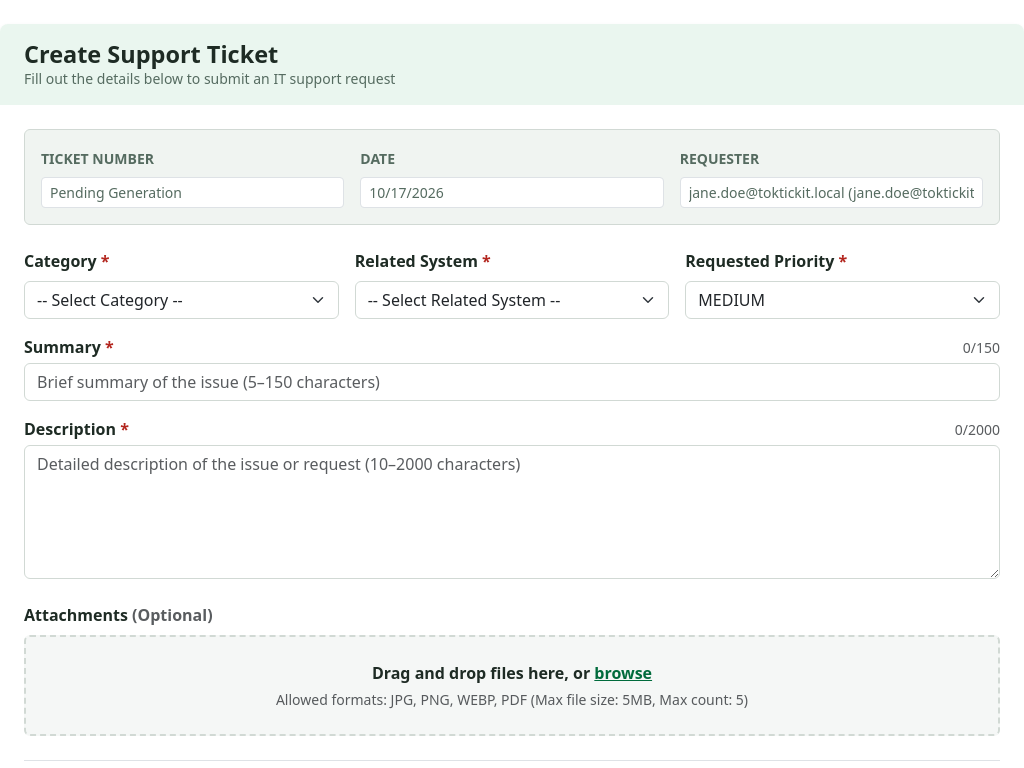
Test: CreateTicket UI Component (Lab 2 — GitHub Issue #4) › UI-05: handles API failure, shows error feedback, and retains form input data
Select "Software" in the dropdown labelled "Category *" at [181, 300], box top-left (24, 281), bottom-right (339, 319)
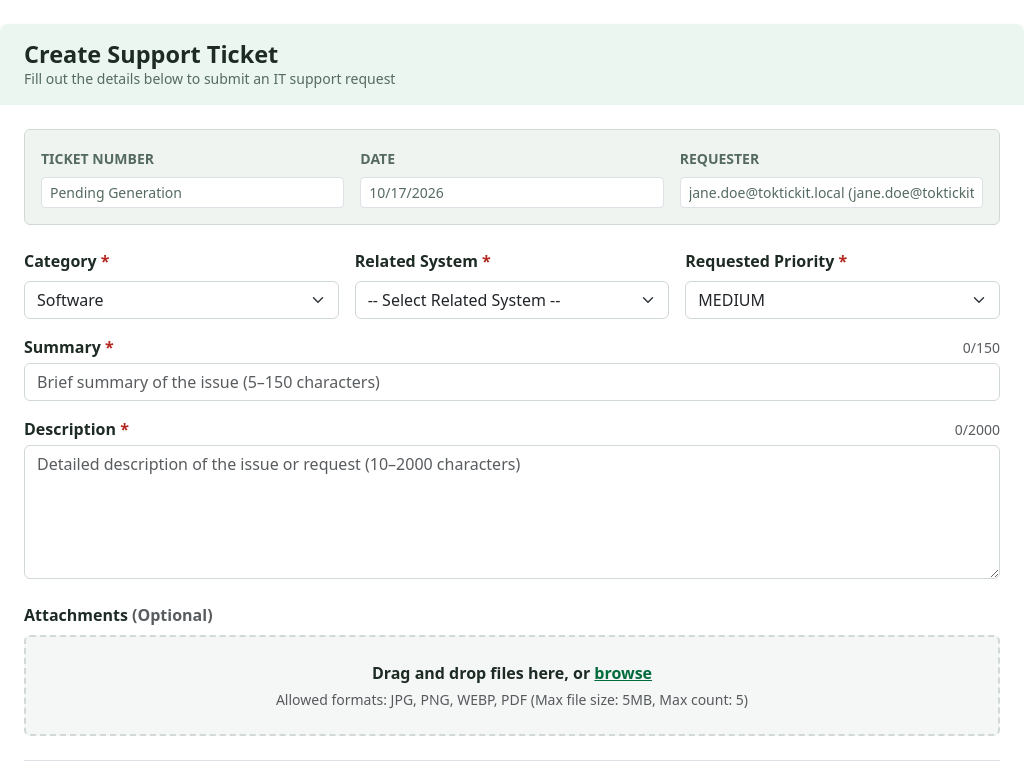
Select "VPN Service" in the dropdown labelled "Related System *" at [512, 300], box top-left (355, 281), bottom-right (669, 319)
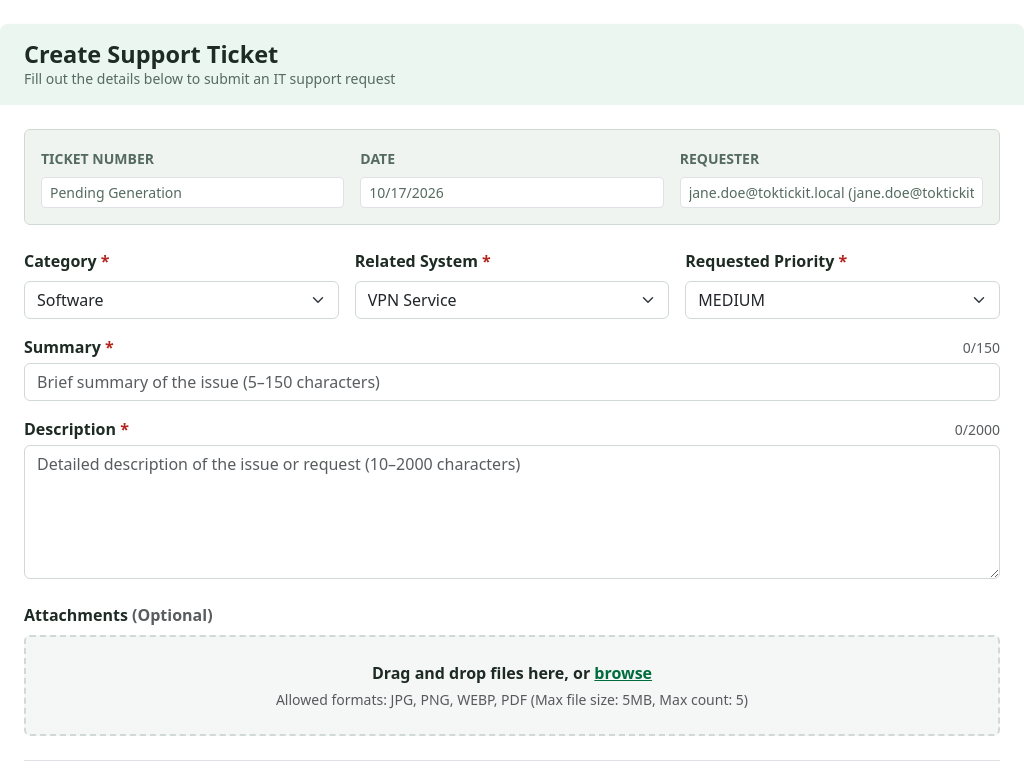
Type "Database connection error during query" into the field with placeholder "Brief summary of the issue (5–150 characters)" at [512, 382], box top-left (24, 363), bottom-right (1000, 401)
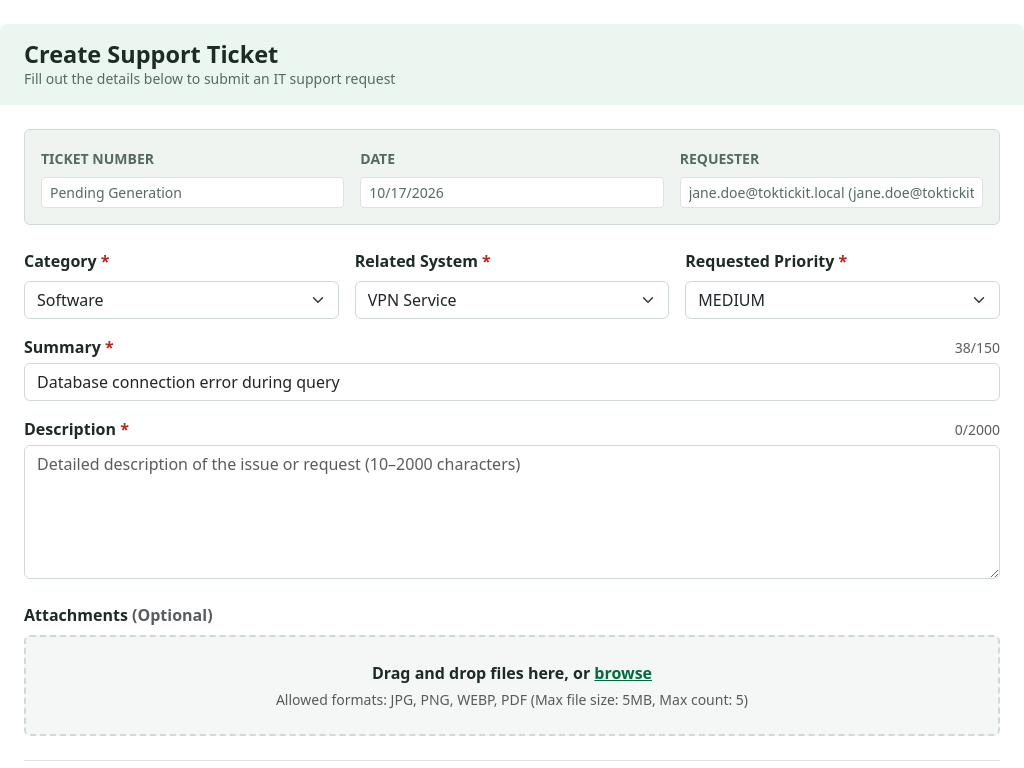
Replace the text in the text box with placeholder "Detailed description" with "Full stack error log observed when running batch update operations." at [512, 512], box top-left (24, 445), bottom-right (1000, 579)
(page scrolled)
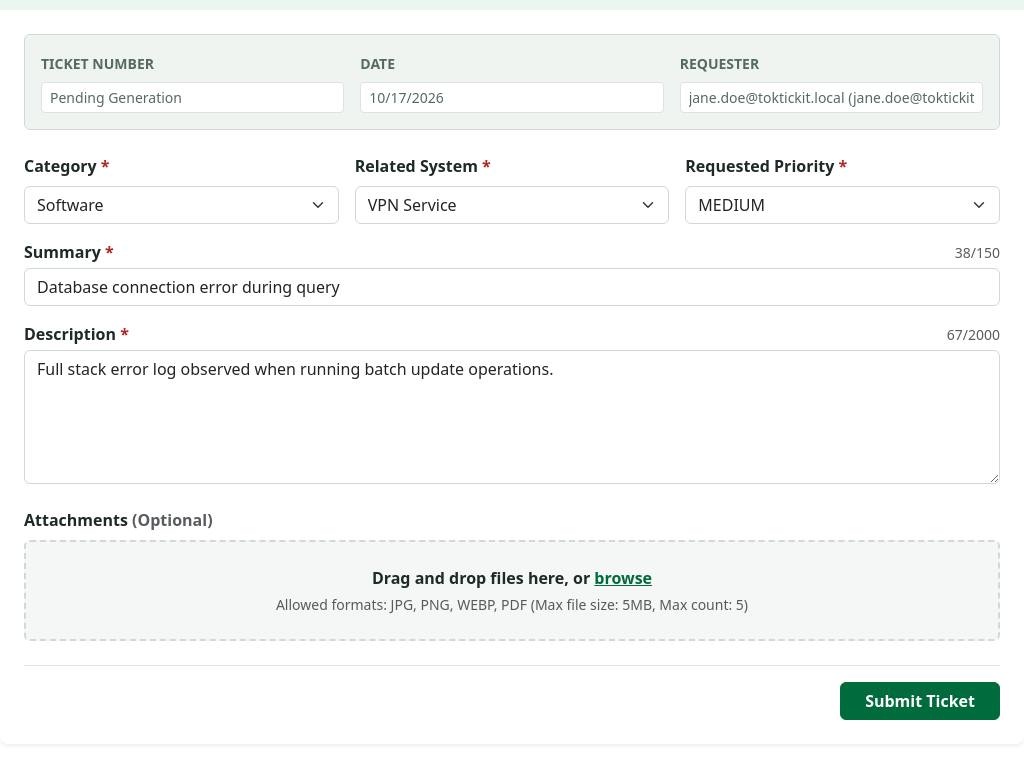
Click the button "Submit Ticket" at [920, 701], box top-left (840, 682), bottom-right (1000, 720)
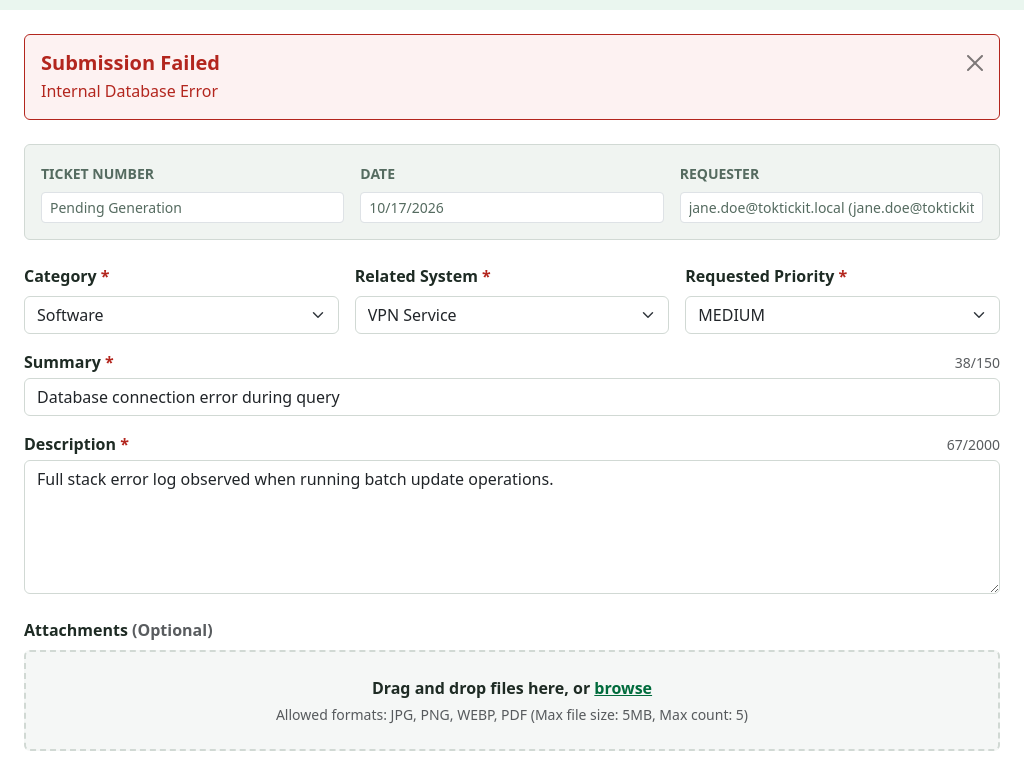
Check: the heading "Submission Failed" is shown, box top-left (41, 49), bottom-right (220, 76)
Check: the text "Internal Database Error" is shown, box top-left (41, 80), bottom-right (218, 102)
